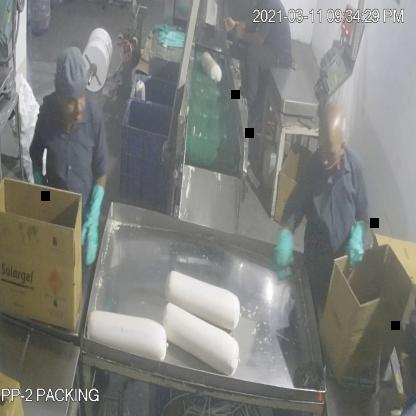glove: (79, 172, 110, 281)
no_glove: (226, 20, 268, 54)
